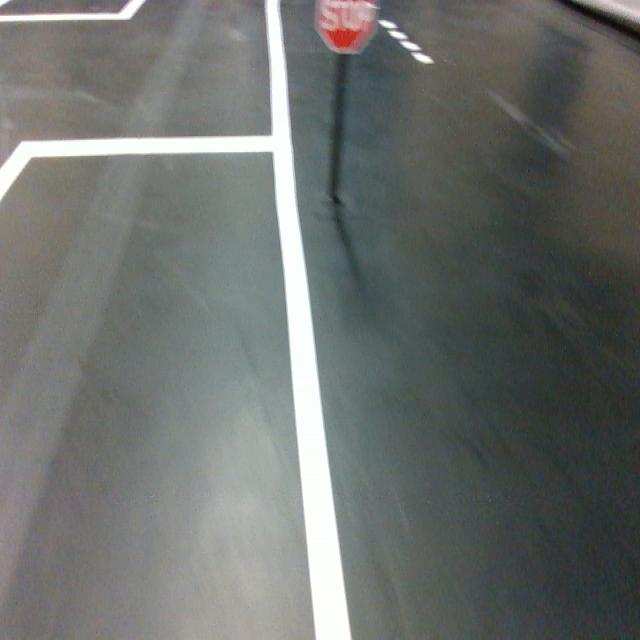stop-sign: (313, 0, 378, 55)
